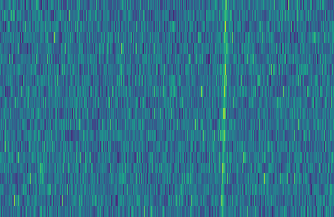signal: (218, 0, 231, 217)
